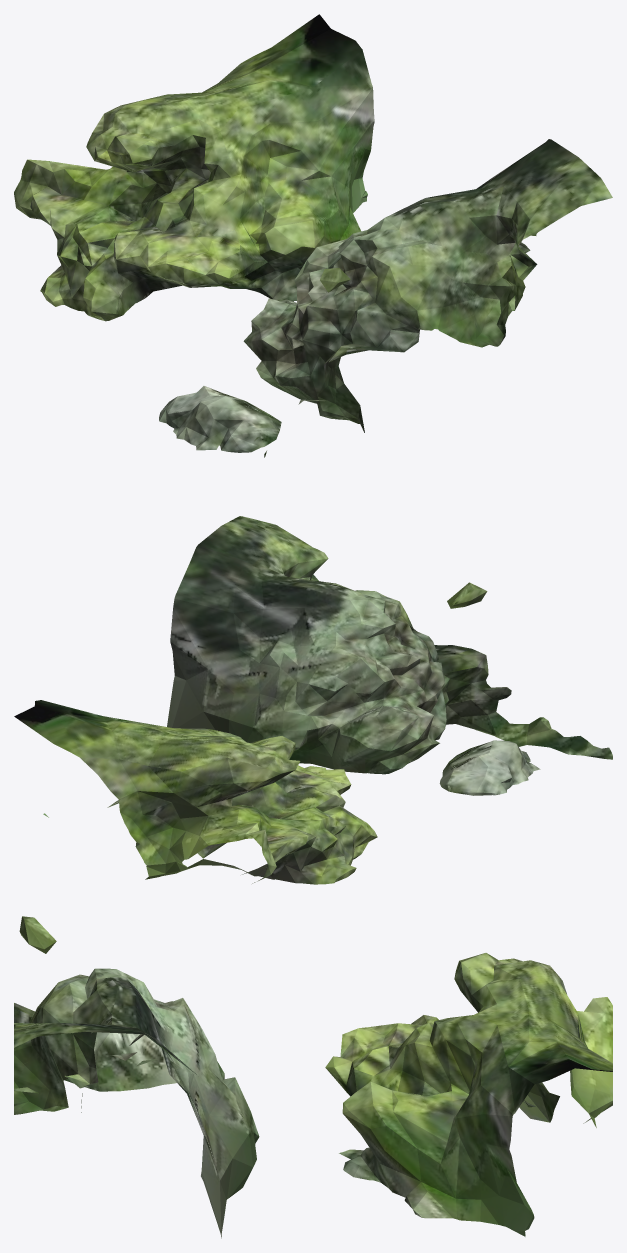
3 views of the same model, one above another, from view 1: azimuth 30°, elevation 25°; view 2: azimuth 150°, elevation 25°; view 3: azimuth 270°, elevation 25° (orthographic). The views are drawn at different scales.
Size of the model in its own units: 22.82 by 9.96 by 26.11.
Materials: 3 (3 with a texture image).
